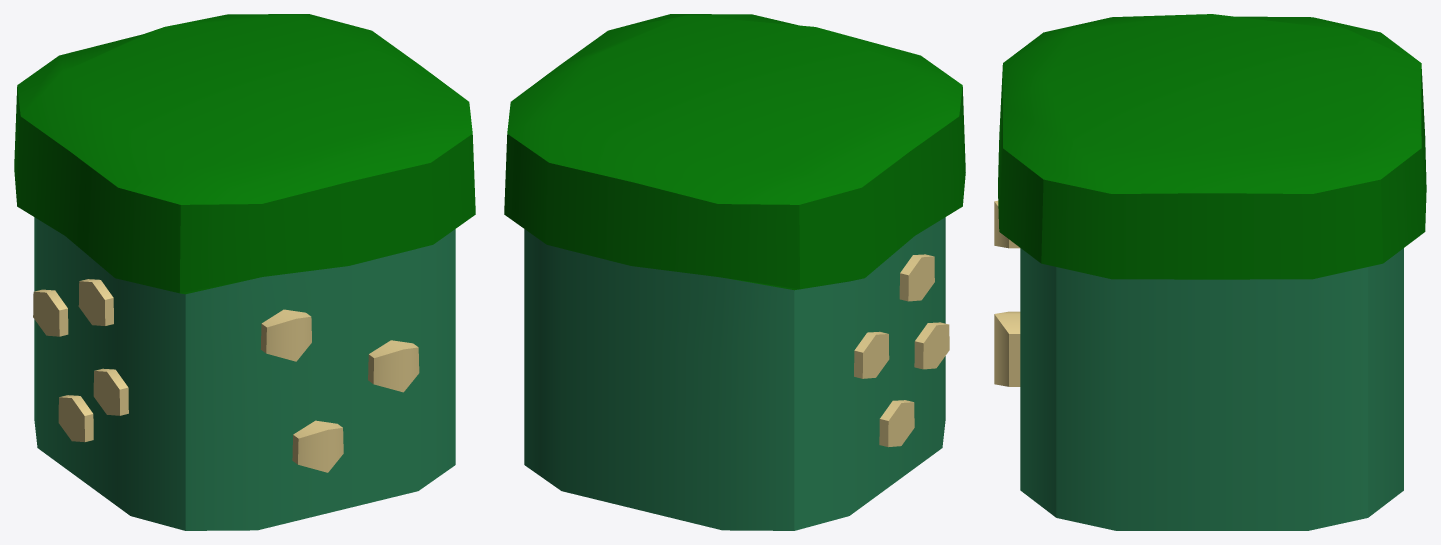
Rendered from LevelWallPiece2.fbx.
3 renders of one model, left to right at view 1: azimuth 30°, elevation 25°; view 2: azimuth 150°, elevation 25°; view 3: azimuth 270°, elevation 25°, orthographic. The views are drawn at different scales.
Parts seen in each view (by area): view 1: LevelWallPiece2; view 2: LevelWallPiece2; view 3: LevelWallPiece2.
Boxes of the visible parts, x1,y1,x2,y2 form: LevelWallPiece2: (14, 14, 475, 530); LevelWallPiece2: (504, 14, 965, 530); LevelWallPiece2: (994, 14, 1426, 530).
Size of the model in its own units: 1.12 by 1.06 by 1.13.
